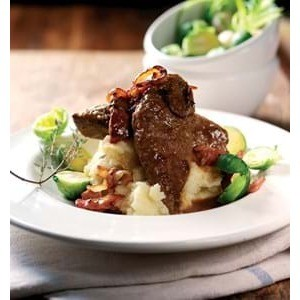liver_brain food: (85, 59, 212, 154)
